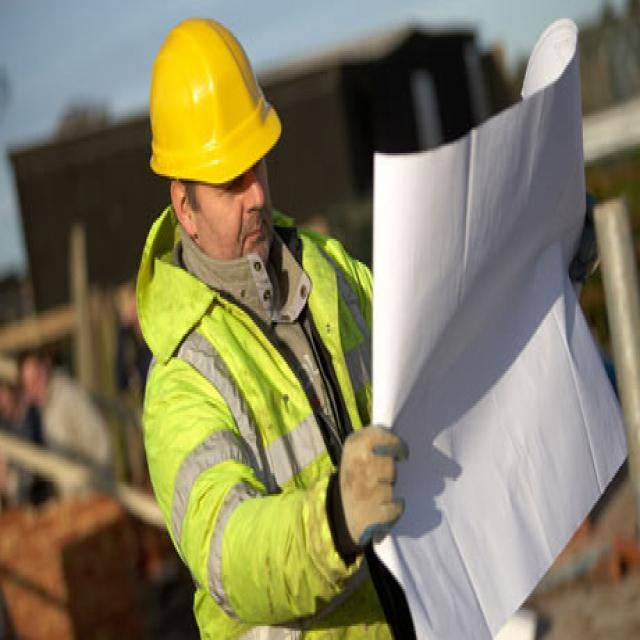Reflective-Jacket: (150, 234, 380, 638)
Safety-Helmet: (142, 14, 282, 192)
